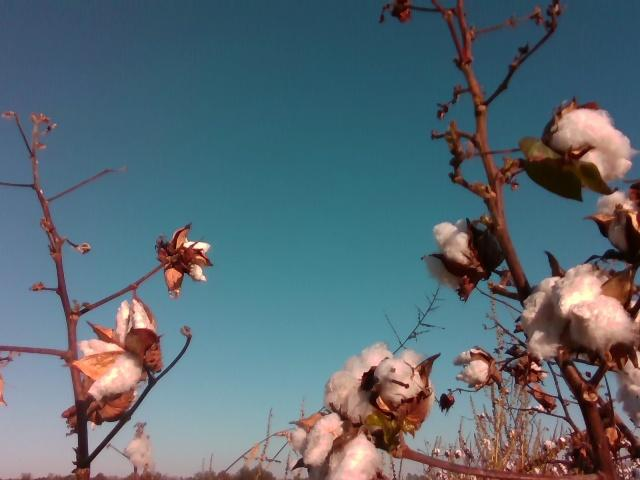cotton_ready: (303, 345, 438, 480), (517, 261, 640, 362), (74, 300, 159, 404), (548, 102, 636, 185), (425, 218, 498, 289), (595, 189, 640, 251), (614, 352, 640, 431), (172, 240, 210, 284), (453, 348, 492, 389)
